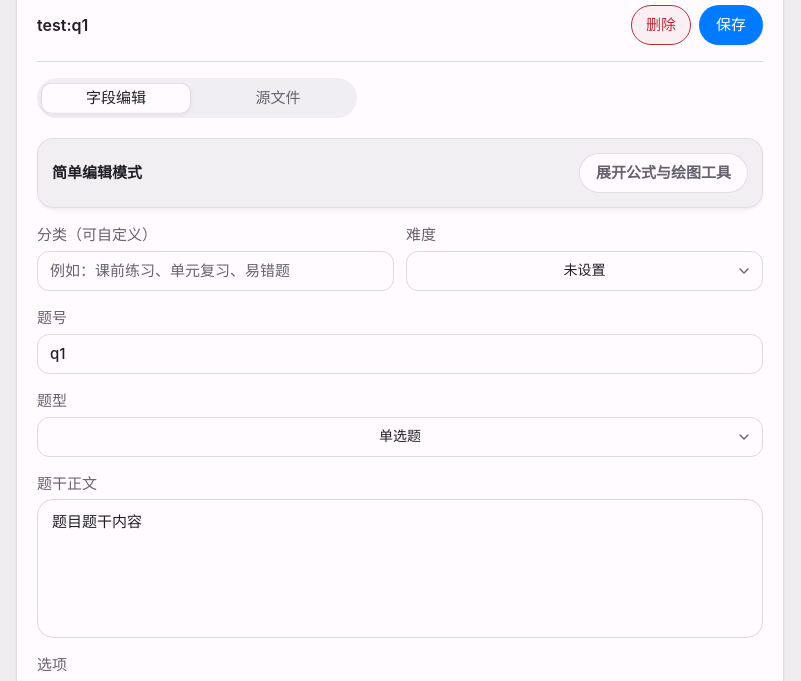
Test case: BankQuestionEditorPanel User Journeys › Single Question Mode › allows switching question type from choice to essay and back
Click the dropdown named "题型" at (400, 436), box [37,416,763,456]
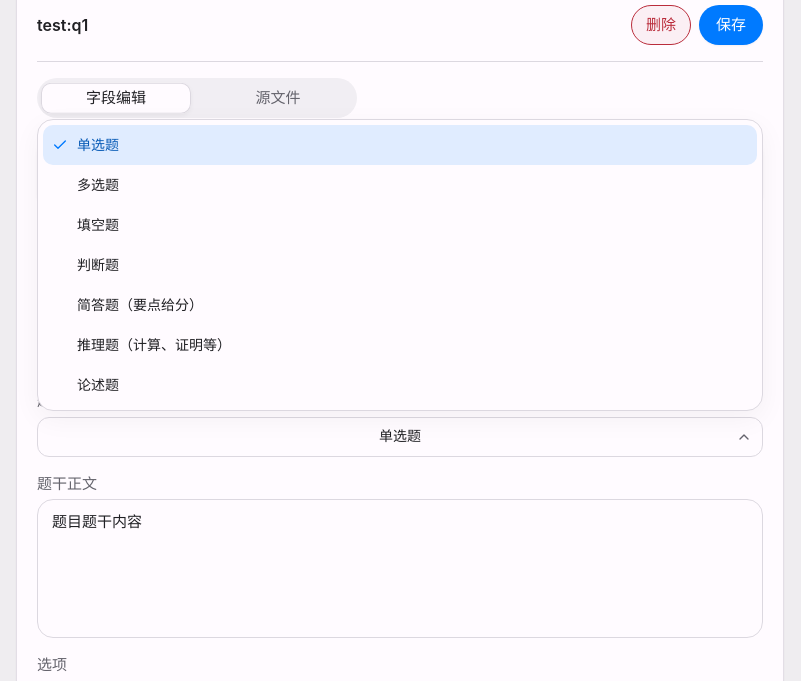
Click the option "论述题" at (98, 385), box [77,376,119,393]
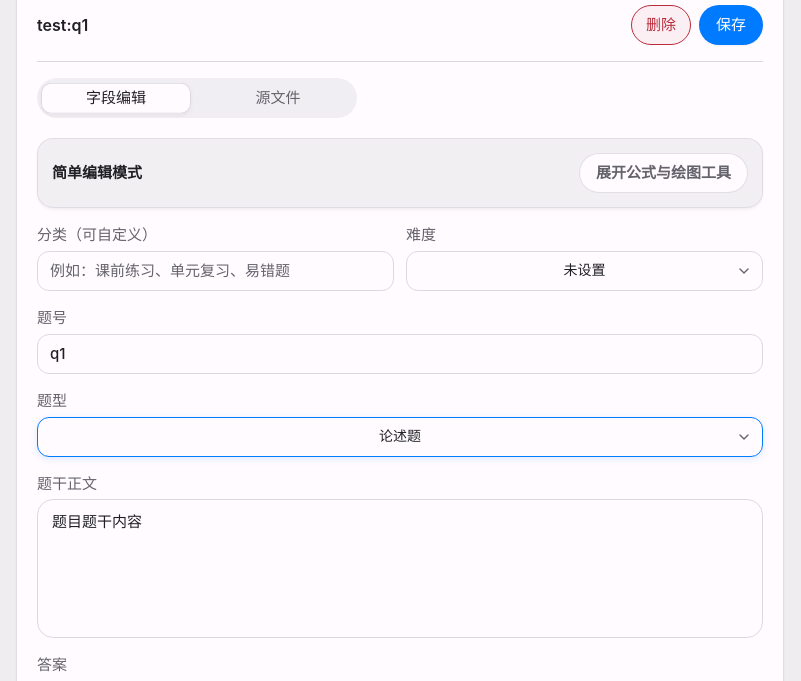
Click the dropdown named "题型" at (400, 436), box [37,416,763,456]
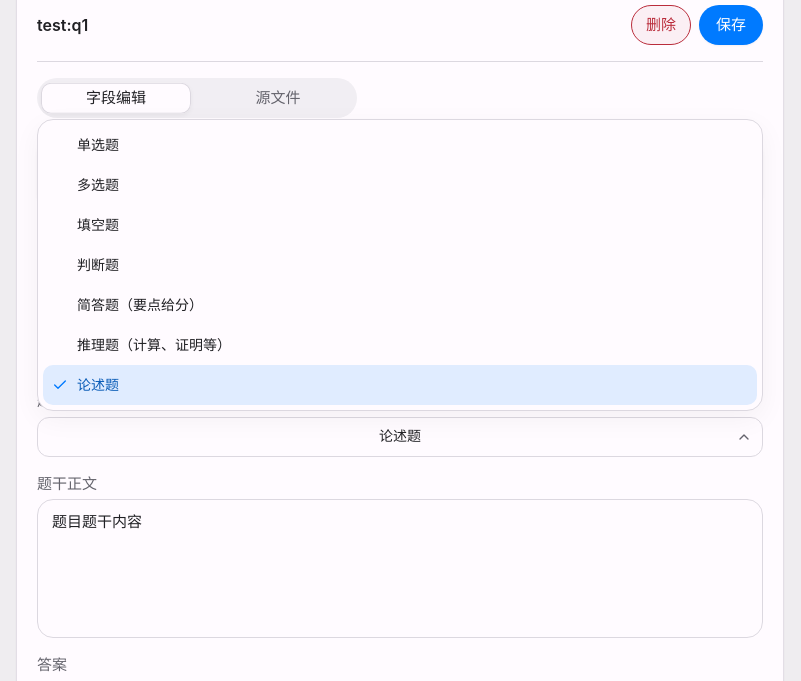
Click the option "单选题" at (98, 145), box [77,136,119,153]
(page scrolled)
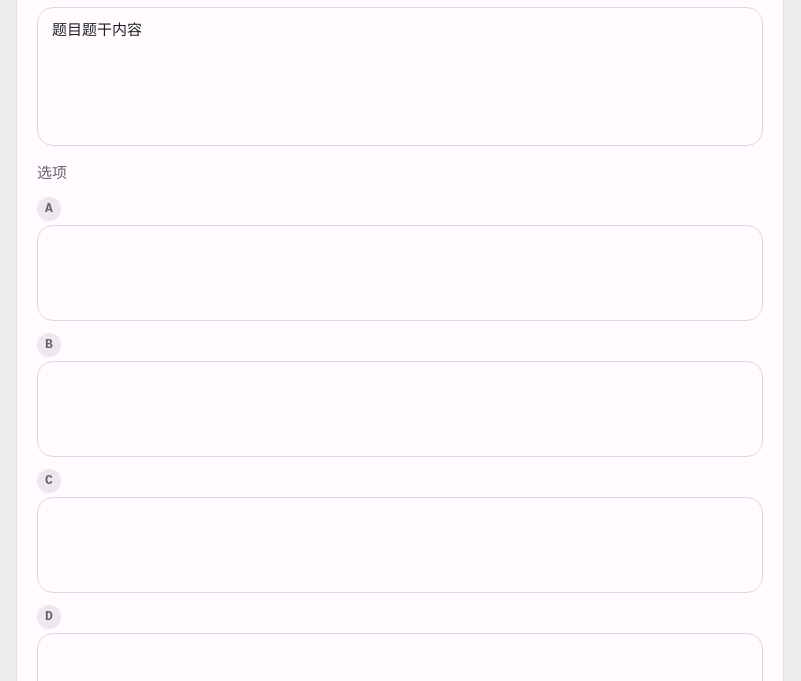
Expected: the text "A" is shown, [37,197,61,221]
Expected: the text "B" is shown, [37,333,61,357]
